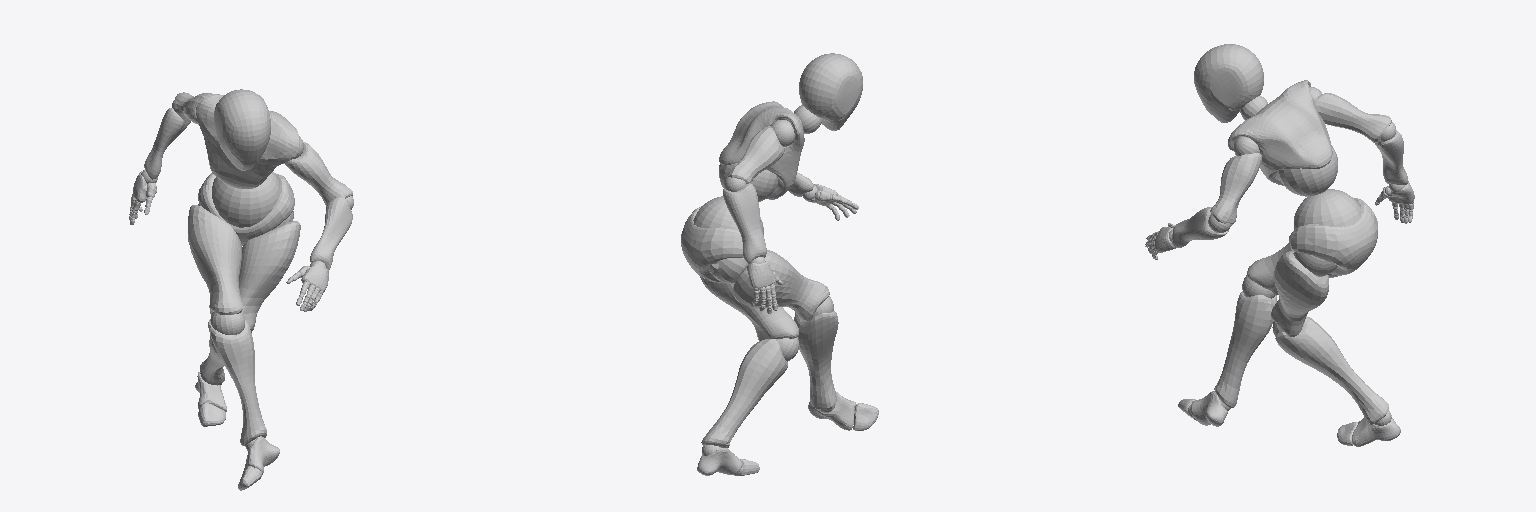
The picture shows the model from 3 angles: view 1: azimuth 30°, elevation 25°; view 2: azimuth 150°, elevation 25°; view 3: azimuth 270°, elevation 25°; orthographic projection.
Visible parts, largest first — view 1: Beta_Surface, Beta_Joints; view 2: Beta_Surface, Beta_Joints; view 3: Beta_Surface, Beta_Joints.
Boxes of the visible parts, <box> form: Beta_Surface: <box>129,89,352,490</box>; Beta_Joints: <box>129,101,353,479</box>; Beta_Surface: <box>681,53,878,475</box>; Beta_Joints: <box>693,105,856,475</box>; Beta_Surface: <box>1145,44,1414,446</box>; Beta_Joints: <box>1146,87,1413,425</box>.
Bounding box in the file's own units: 0.5392 × 1.46 × 0.9326.